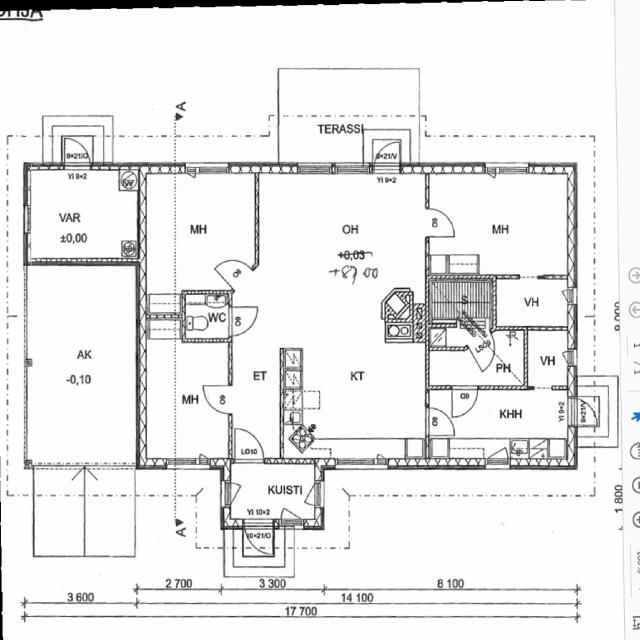door: (215, 248, 253, 290), (468, 330, 504, 371), (244, 518, 273, 560), (234, 426, 264, 464), (567, 398, 604, 427), (374, 134, 400, 174), (228, 306, 260, 336), (425, 208, 456, 237), (65, 135, 90, 170), (202, 386, 232, 414), (425, 407, 455, 435), (452, 386, 478, 418)
